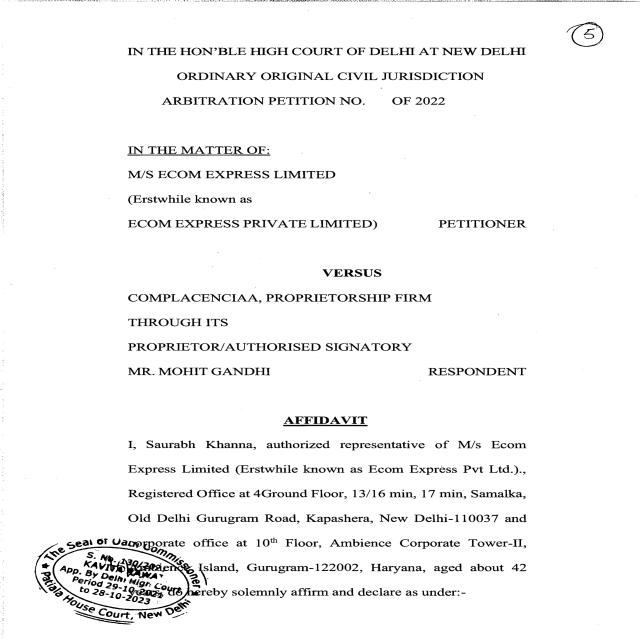page-number: (432, 0, 639, 47)
